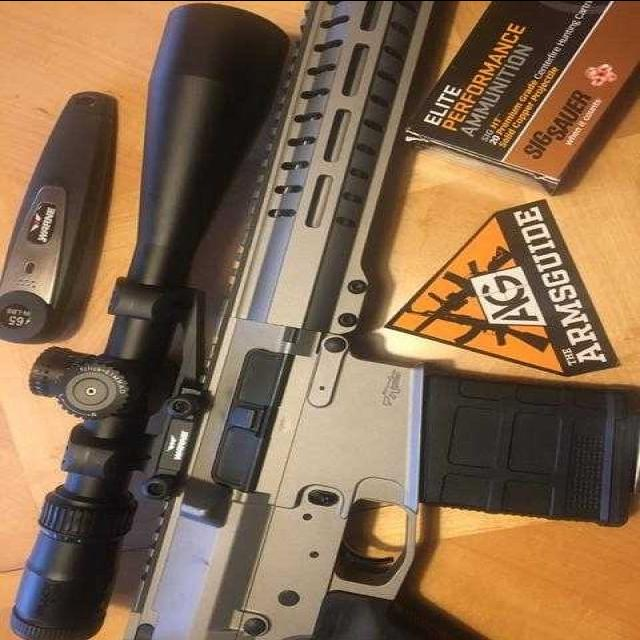heavyweapon: (61, 2, 640, 640)
